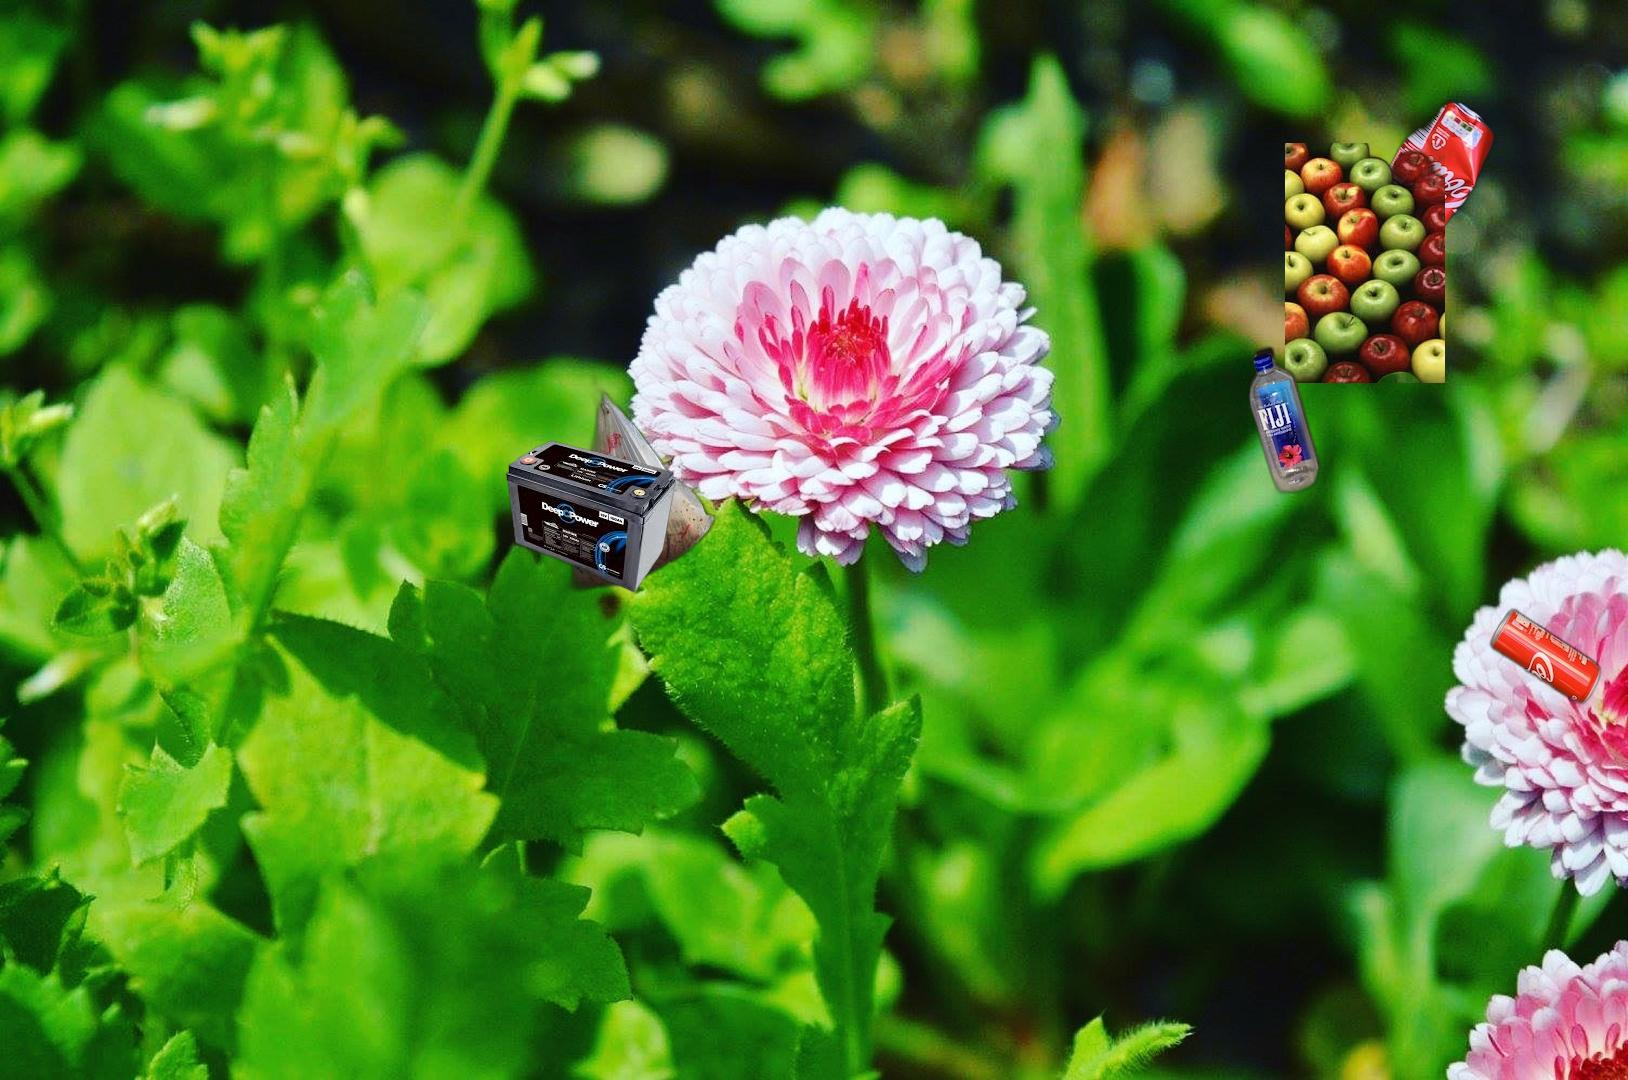battery: (502, 438, 678, 595)
biological: (562, 354, 723, 595), (1285, 143, 1445, 383)
metal-cans: (1364, 96, 1499, 256), (1487, 604, 1606, 709)
plastic-bottles: (1245, 341, 1324, 499)
